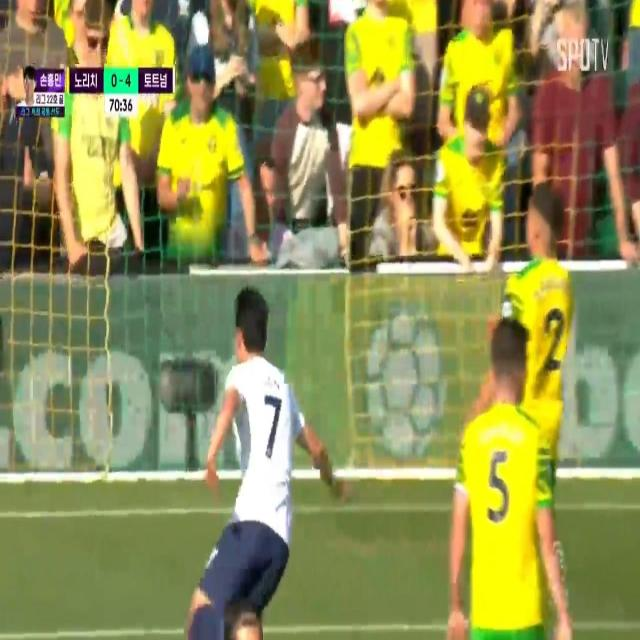player: (200, 283, 310, 640), (451, 314, 555, 640), (500, 181, 588, 471)
